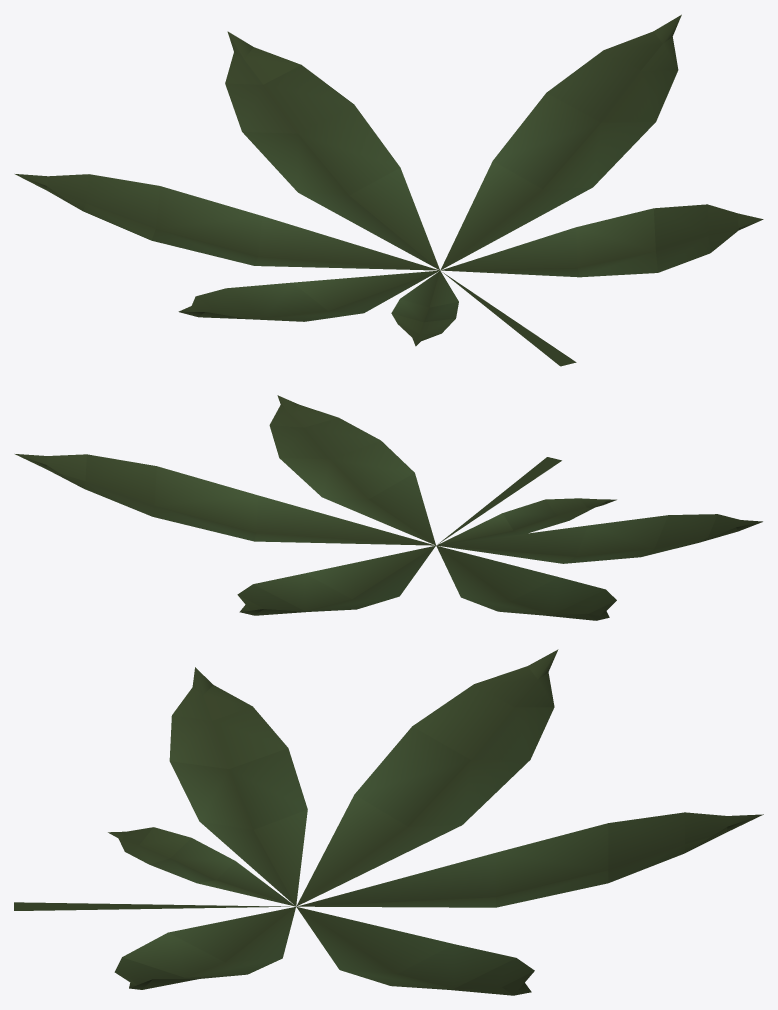
The model's file is trees-leaves-chestnut-leaf_v1.glb.
3 views of the same model, one above another, from view 1: azimuth 30°, elevation 25°; view 2: azimuth 150°, elevation 25°; view 3: azimuth 270°, elevation 25° (orthographic). The views are drawn at different scales.
Visible parts, largest first — view 1: Chestnut Leaf_v1; view 2: Chestnut Leaf_v1; view 3: Chestnut Leaf_v1.
Part boxes in pixels (x1,y1,x2,y2): Chestnut Leaf_v1: (15, 14, 763, 366); Chestnut Leaf_v1: (15, 395, 762, 620); Chestnut Leaf_v1: (14, 649, 763, 995).
Bounding box in the file's own units: 0.25 × 0.0336 × 0.2247.
